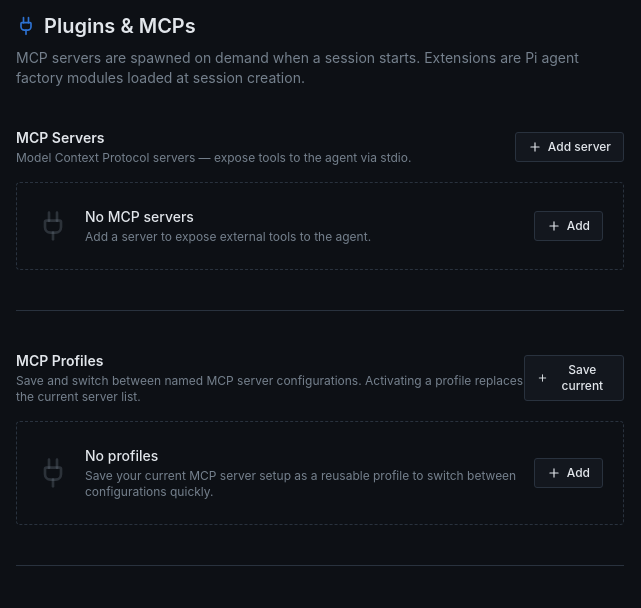
Test case: PluginsPanel › adds an MCP server
Expected: the text "No MCP servers" is shown, [85,208,194,225]
Click the button "Add server".
click(569, 147)  # box [515,132,624,162]
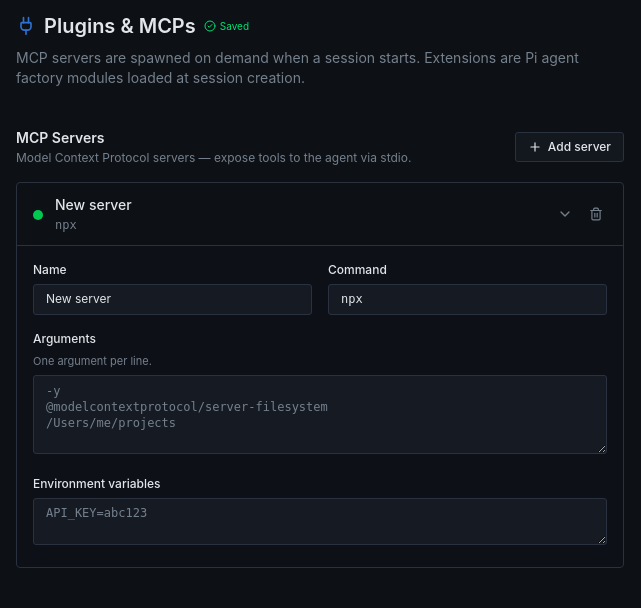
Expected: the text "New server" is shown, [55,196,132,213]
Expected: the text "npx" is shown, [55,218,77,232]
